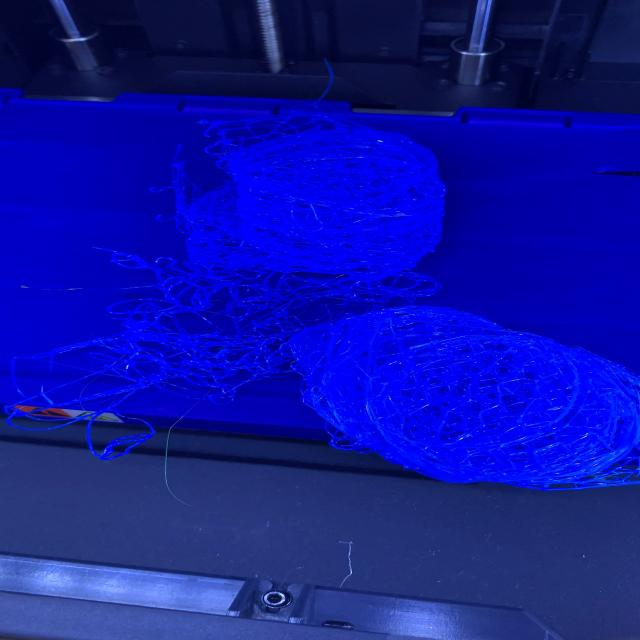spaghetti: (5, 109, 638, 490), (284, 304, 639, 490), (166, 110, 447, 280)
